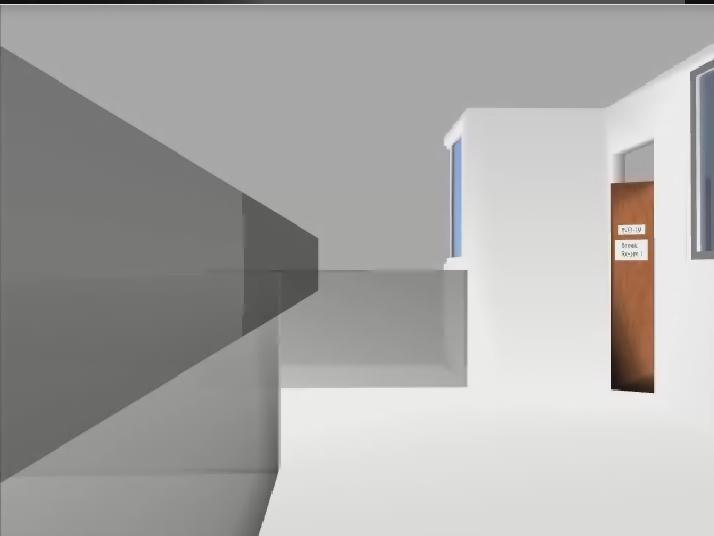door: (611, 182, 653, 392)
